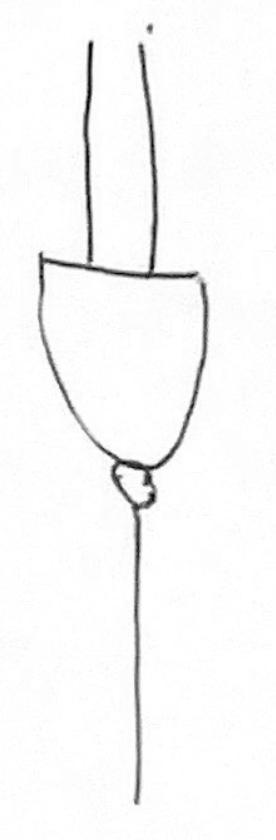NAND: (18, 233, 243, 526)
